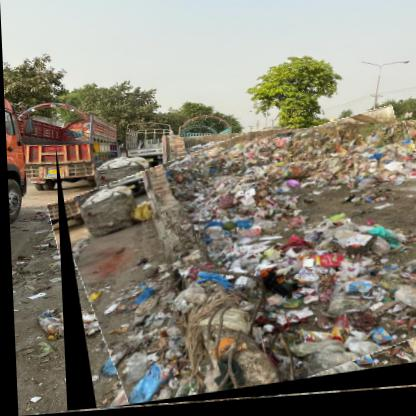Garbage: (55, 126, 416, 414)
